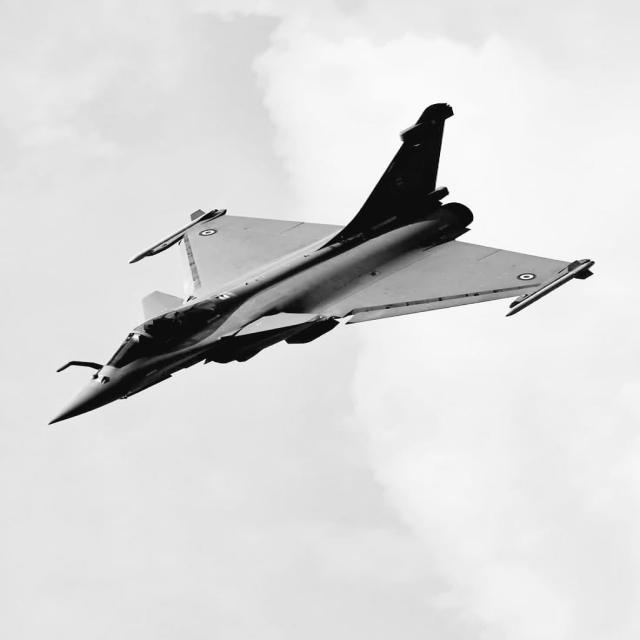iha: (0, 40, 594, 423)
